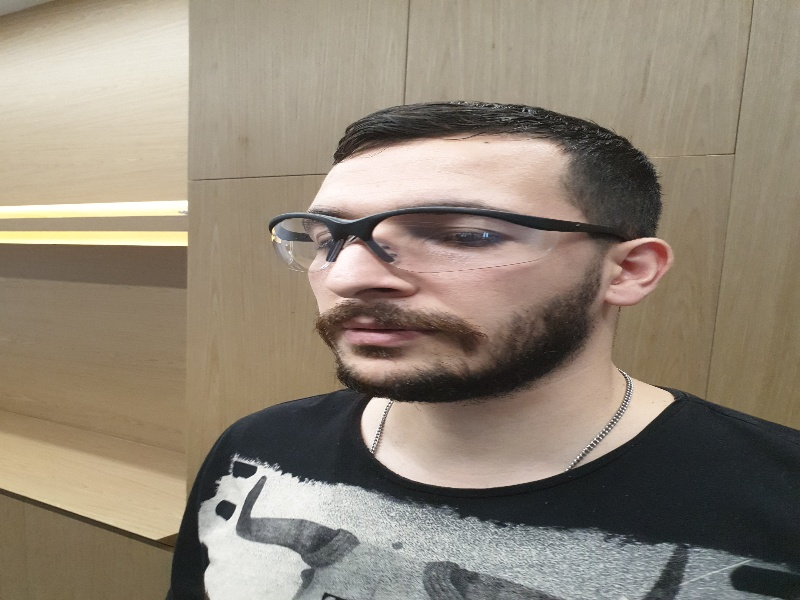Gozluk: (265, 211, 631, 274)
